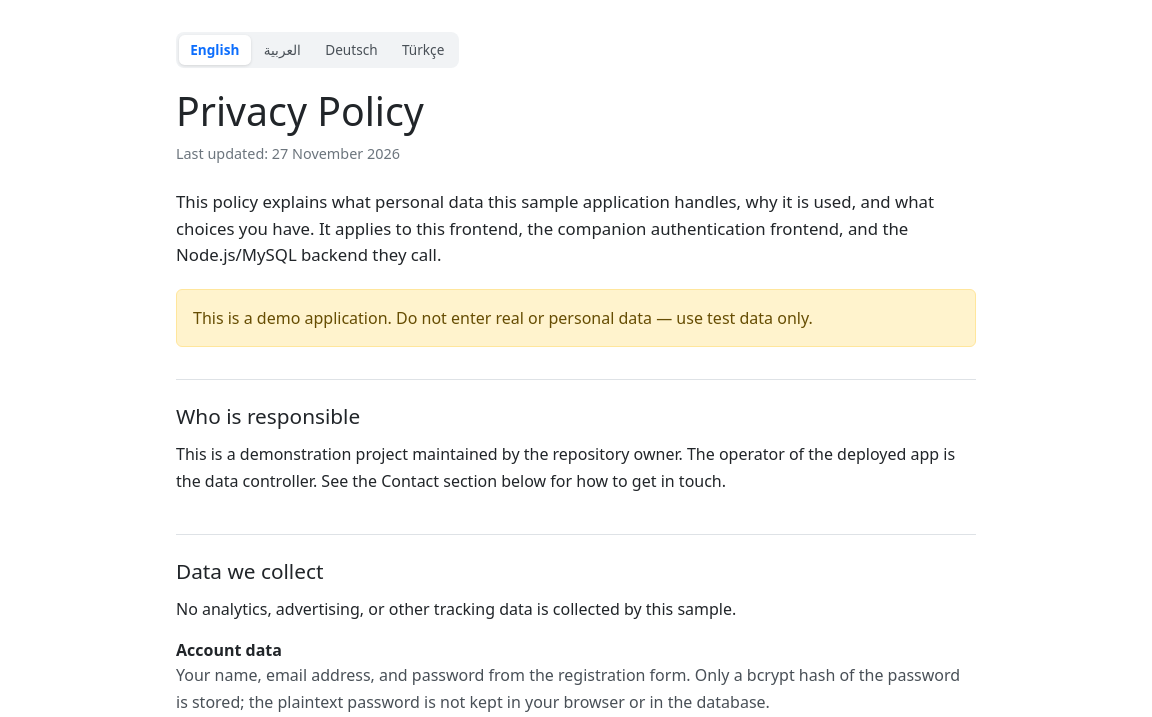
Test case: supports German and Turkish translations
Later steps or results of the test are not shown.
Click the button "Deutsch" at (351, 50), box left=314, top=35, right=389, bottom=65
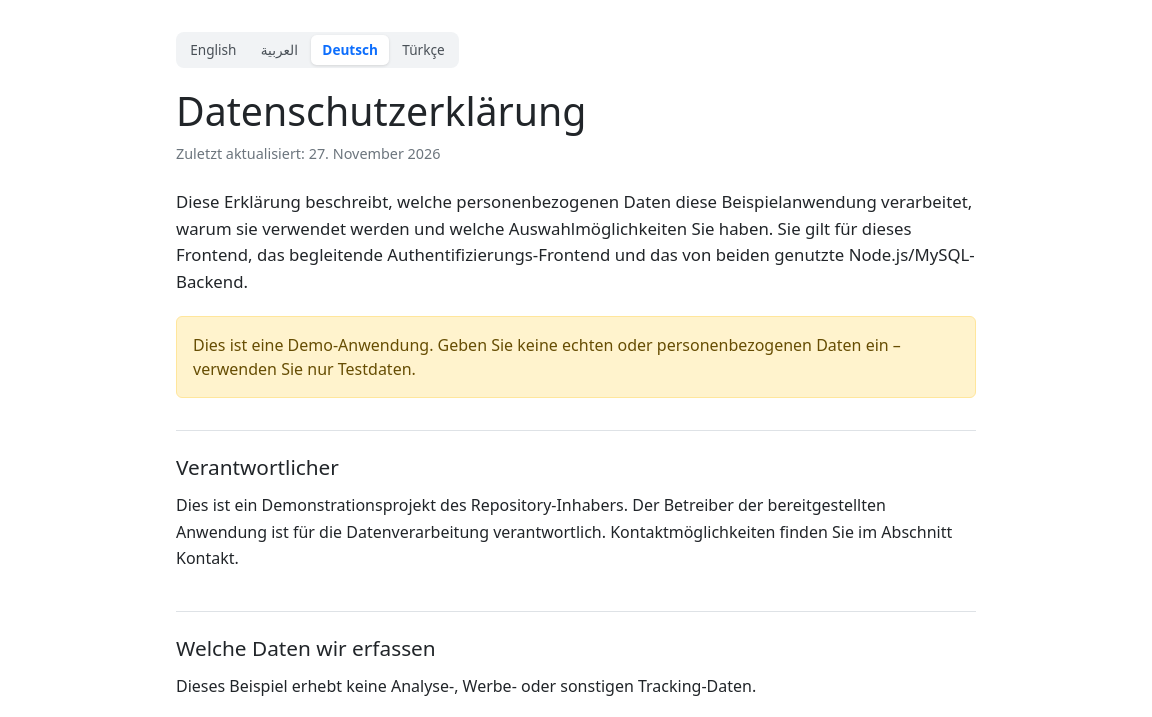
Expected: the heading "Datenschutzerklärung" is shown, left=176, top=84, right=586, bottom=138
